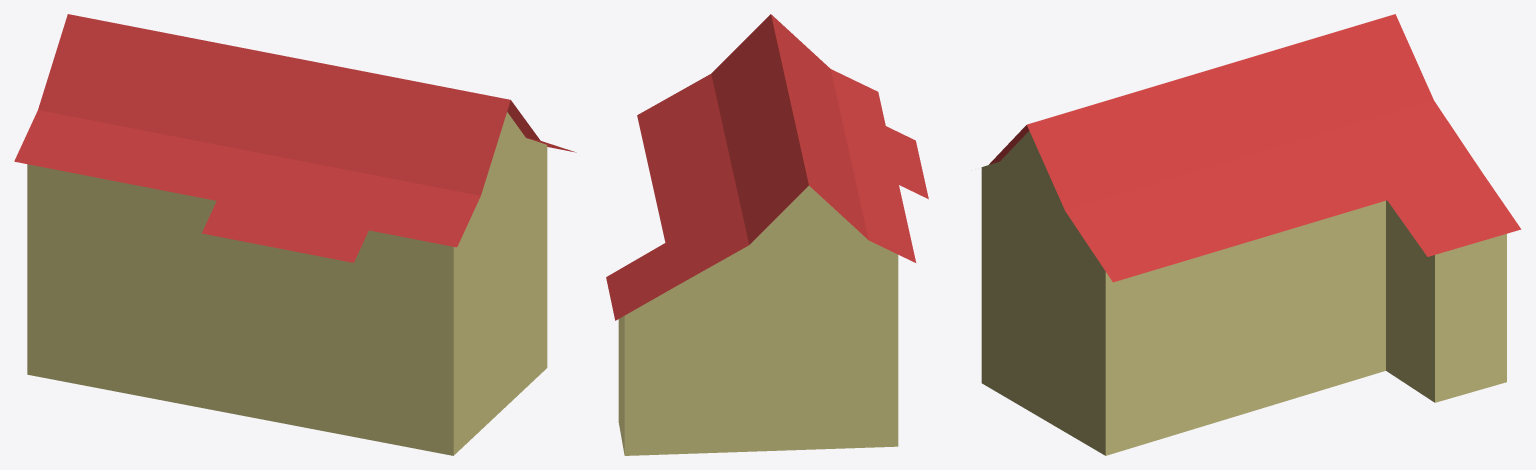
3 views of the same model, side by side, from view 1: azimuth 30°, elevation 25°; view 2: azimuth 150°, elevation 25°; view 3: azimuth 270°, elevation 25° (orthographic). The views are drawn at different scales.
Size of the model in its own units: 18.22 by 21.37 by 12.35.
